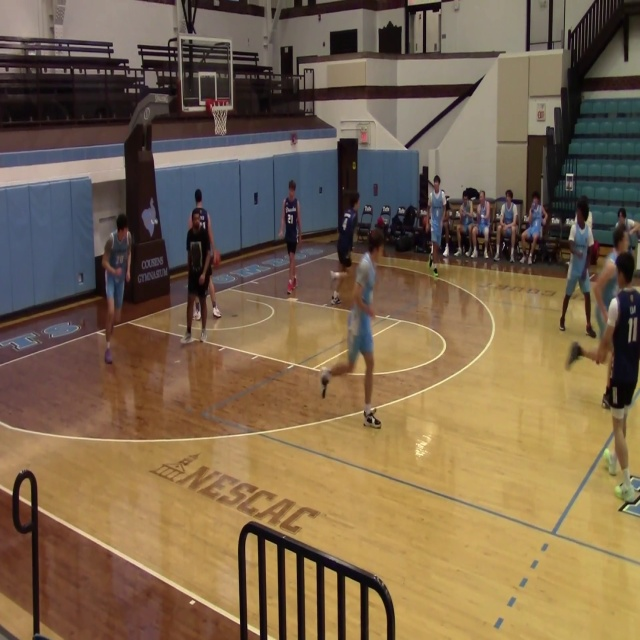Basketball: (395, 233, 413, 252), (212, 251, 221, 267)
